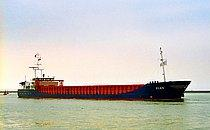Ship: (15, 65, 194, 106)
